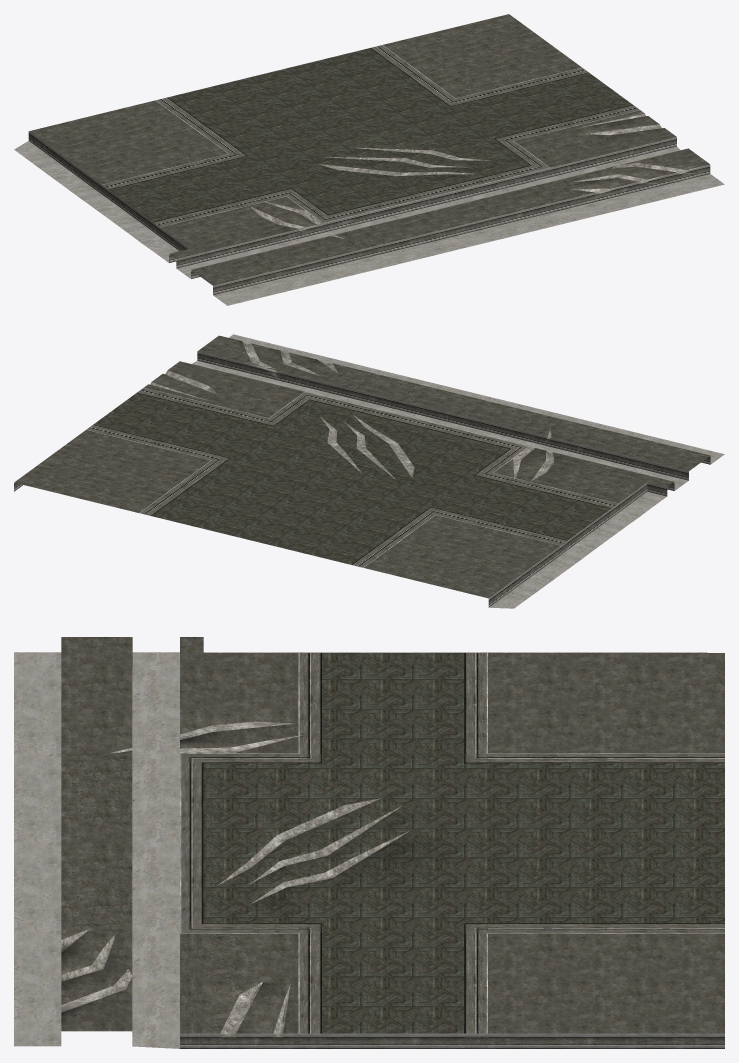
The model's file is DWARF_PALACE_MAINHALL_FLOOR02.fbx.
The picture shows the model from 3 angles, top to bottom: view 1: azimuth 30°, elevation 25°; view 2: azimuth 150°, elevation 25°; view 3: azimuth 270°, elevation 25°; orthographic projection. The views are drawn at different scales.
Parts seen in each view (by area): view 1: DWARF_PALACE_MAINHALL_FLOOR02; view 2: DWARF_PALACE_MAINHALL_FLOOR02; view 3: DWARF_PALACE_MAINHALL_FLOOR02.
Boxes of the visible parts, x1,y1,x2,y2 form: DWARF_PALACE_MAINHALL_FLOOR02: [14, 14, 724, 305]; DWARF_PALACE_MAINHALL_FLOOR02: [14, 334, 724, 608]; DWARF_PALACE_MAINHALL_FLOOR02: [14, 637, 724, 1048].
Size of the model in its own units: 396127 by 7576 by 300000.
Materials: 8 (8 with a texture image).
